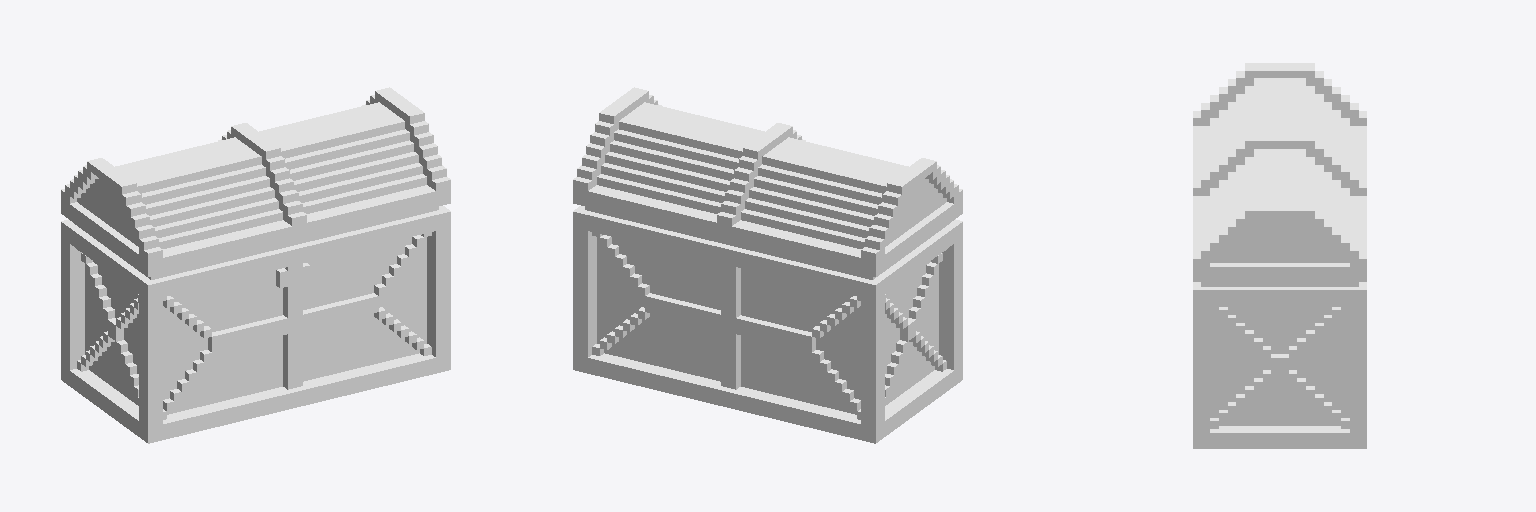
The model's file is Chest01.obj.
3 renders of one model, left to right at view 1: azimuth 30°, elevation 25°; view 2: azimuth 150°, elevation 25°; view 3: azimuth 270°, elevation 25°, orthographic.
Visible parts, largest first — view 1: object 1; view 2: object 1; view 3: object 1.
Part boxes in pixels (x1,y1,x2,y2): object 1: (61,87,450,443); object 1: (573,87,962,443); object 1: (1193,63,1366,448).
Bounding box in the file's own units: 4 × 3 × 2.